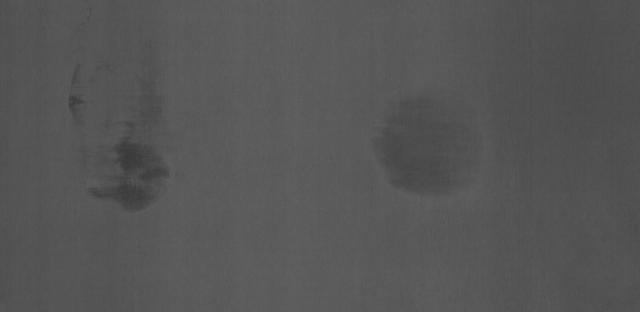oil_spot: (68, 50, 178, 217), (373, 76, 484, 205)
